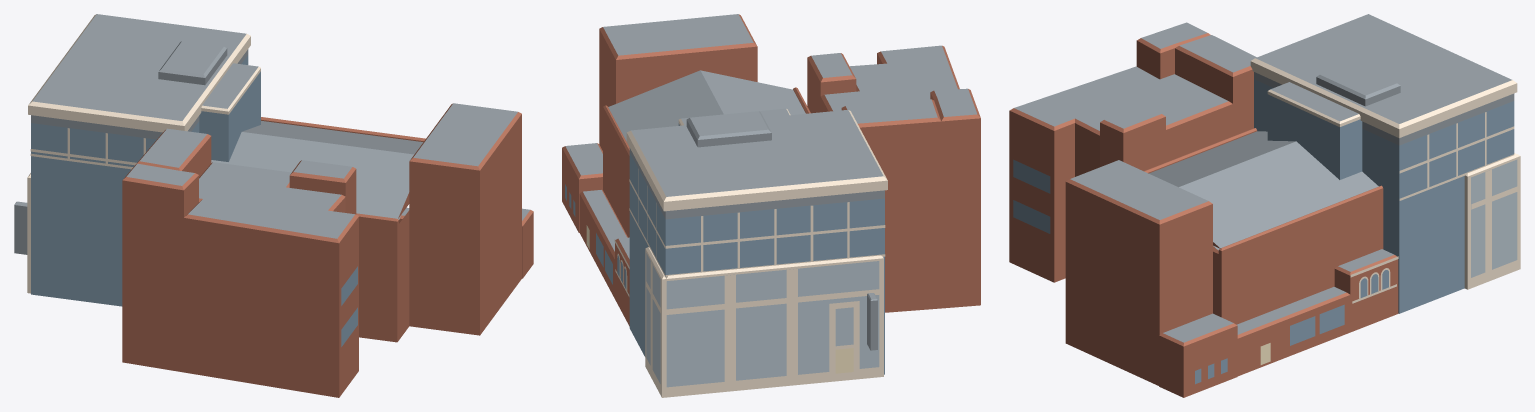
The model's file is detail.glb.
3 views of the same model, side by side, from view 1: azimuth 30°, elevation 25°; view 2: azimuth 150°, elevation 25°; view 3: azimuth 270°, elevation 25° (orthographic). The views are drawn at different scales.
Visible parts, largest first — view 1: carolina-theatre; view 2: carolina-theatre; view 3: carolina-theatre.
Part boxes in pixels (<box>): carolina-theatre: <box>14,14,533,397</box>; carolina-theatre: <box>562,14,980,397</box>; carolina-theatre: <box>1009,14,1520,397</box>.
Size of the model in its own units: 63.24 by 29.56 by 68.98.
